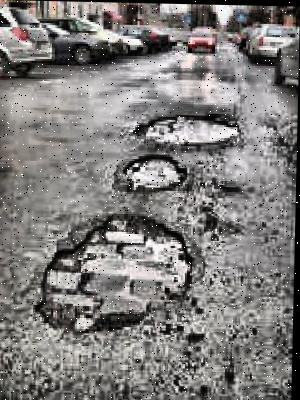pothole: (28, 207, 199, 342), (130, 110, 243, 145), (120, 154, 190, 193)
